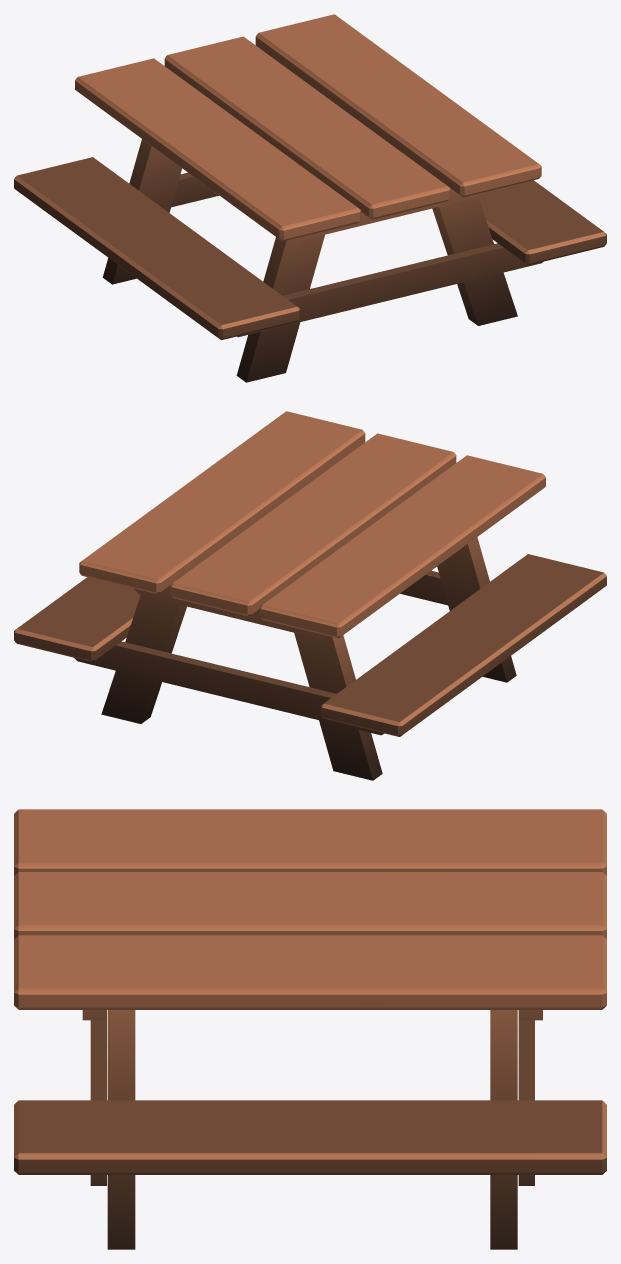
File: Picnic Table.glb
3 renders of one model, top to bottom at view 1: azimuth 30°, elevation 25°; view 2: azimuth 150°, elevation 25°; view 3: azimuth 270°, elevation 25°, orthographic. The views are drawn at different scales.
Parts seen in each view (by area): view 1: Picnic Table; view 2: Picnic Table; view 3: Picnic Table.
Part boxes in pixels (x1,y1,x2,y2): Picnic Table: (14, 14, 606, 382); Picnic Table: (14, 411, 606, 780); Picnic Table: (14, 809, 606, 1249).
Bounding box in the file's own units: 3.87 × 1.69 × 3.58.
Materials: 1 (1 with a texture image).
